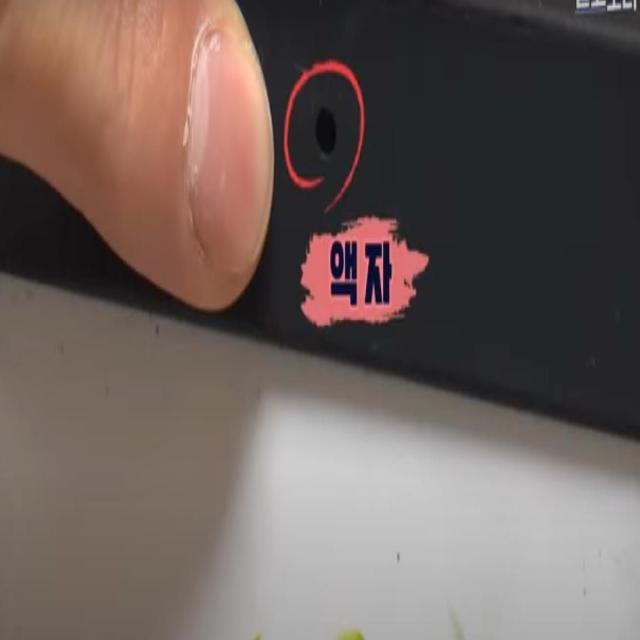hidden camera: (308, 86, 345, 188)
